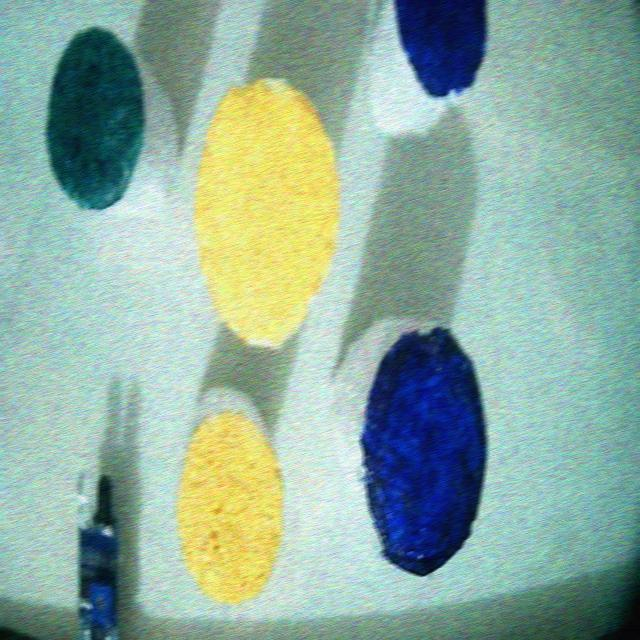blue: (360, 327, 486, 575), (396, 0, 486, 95)
green: (46, 32, 143, 208)
yellow: (196, 80, 338, 346), (175, 412, 282, 603)
